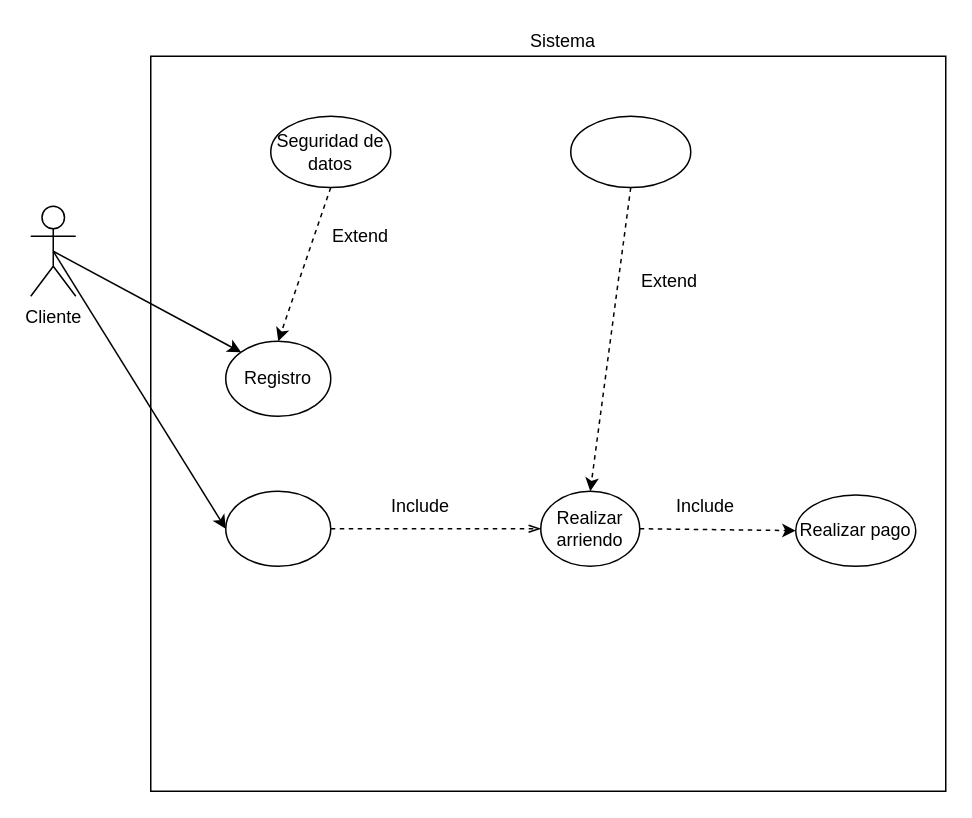
Image size: 972x818. Some labels were removed from this diagram. The shapes that lost their labels are listed below. From the top down, each one's centre as x and y in pixels, then its label:
point (630, 151): Informacion GPS
point (277, 528): Login
